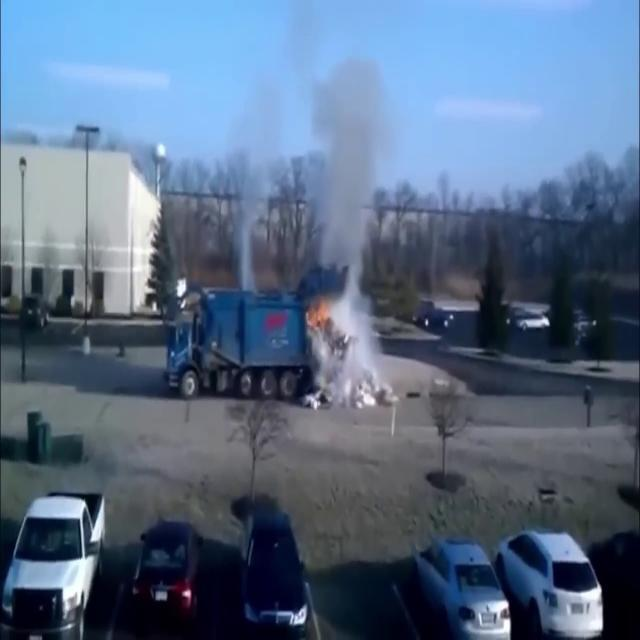Smoke: (290, 35, 393, 358)
